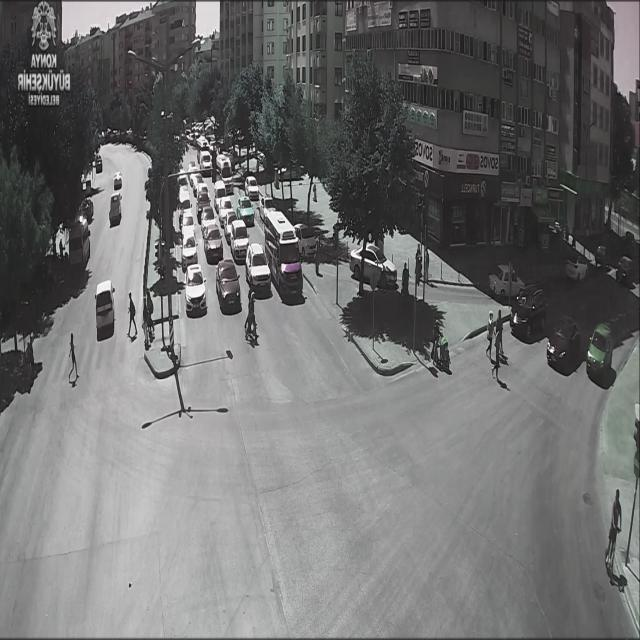Bus: (263, 213, 304, 299), (68, 220, 90, 269)
Car: (588, 318, 623, 386), (349, 243, 398, 290), (510, 287, 548, 341), (546, 319, 582, 375), (244, 243, 272, 294), (216, 260, 242, 312), (183, 264, 208, 316), (489, 264, 527, 298), (95, 281, 115, 338), (296, 224, 322, 260), (228, 220, 250, 261), (202, 224, 225, 263), (181, 228, 199, 270), (614, 256, 636, 286), (565, 254, 589, 281), (236, 195, 256, 226), (218, 201, 236, 232), (216, 154, 234, 184), (196, 184, 212, 214), (186, 165, 202, 195), (200, 207, 218, 233), (109, 193, 123, 225), (244, 174, 260, 202), (180, 211, 196, 239), (213, 180, 229, 206), (80, 198, 94, 225), (178, 186, 192, 212), (199, 150, 213, 176), (257, 192, 273, 213), (178, 173, 190, 196), (230, 144, 247, 160), (80, 171, 92, 193), (196, 135, 210, 151), (192, 123, 203, 137), (94, 154, 102, 173), (114, 172, 122, 190), (206, 134, 217, 145), (186, 132, 196, 142)
